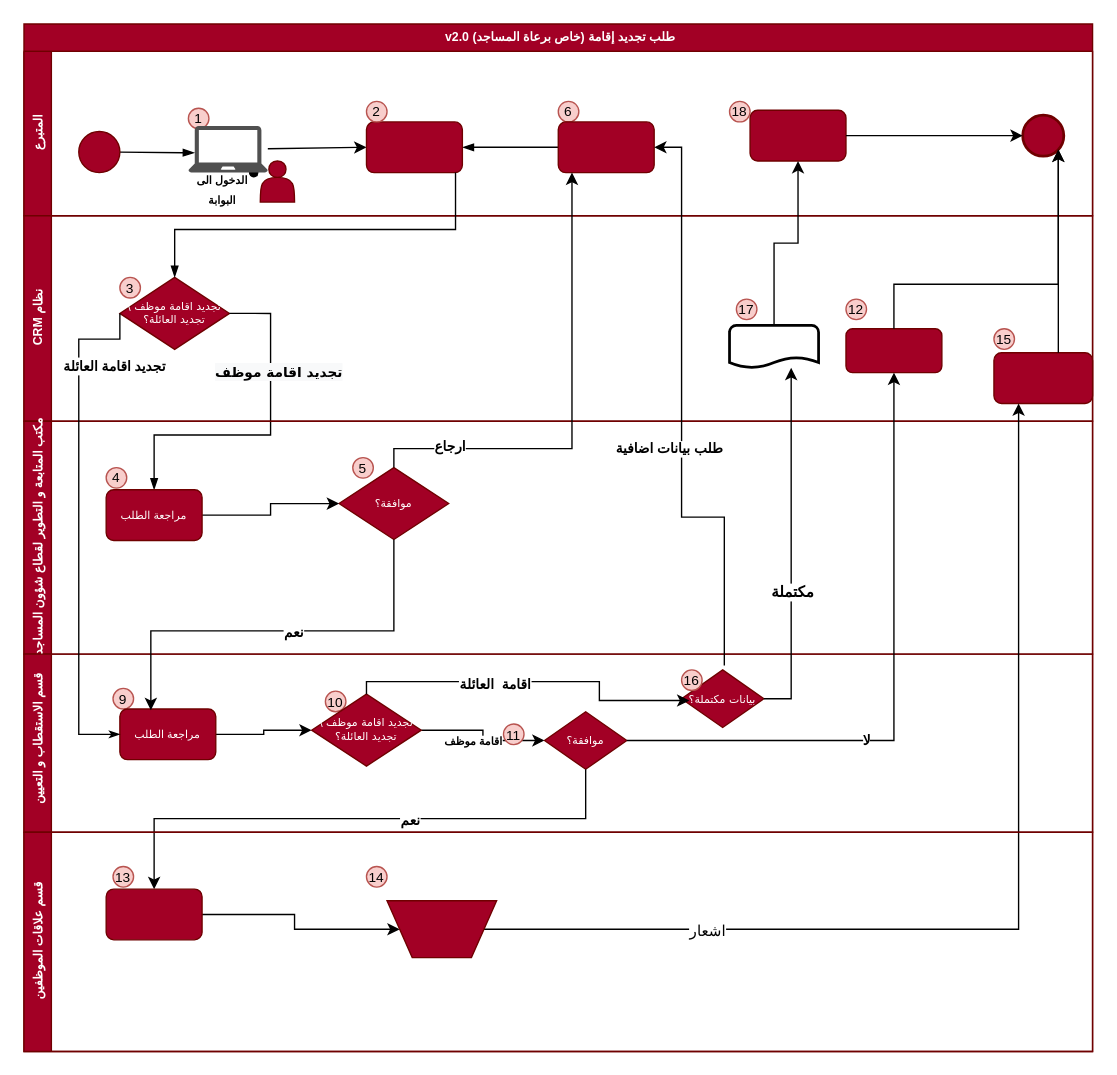
Some shapes in this 1117 by 1075 pixel diagram are drawn without their labels. Each missing label, with the centre of its shape:
ارسال اشعار بالموافقة للمرشح و اشعار للمتبرع: [1043,377]
ارسال رسالة موافقة و شهادة لمن يهمه الامر في حال تجديد اقامة العائلة: [797,135]
استكمال البيانات: [605,147]
استلام الطلب: [153,914]
اصدار شهادة لمن يهمه الأمر: [773,346]
اغلاق: [1042,135]
بدء بتجديد الاقامة و اغلاق الطلب عند التجديد: [441,928]
بداية: [98,151]
تعبئة و نموذج طلب تجديد اقامة: [413,147]
رسالة إعتذار إلى للمتبرع في حالة التجديد: [893,350]
